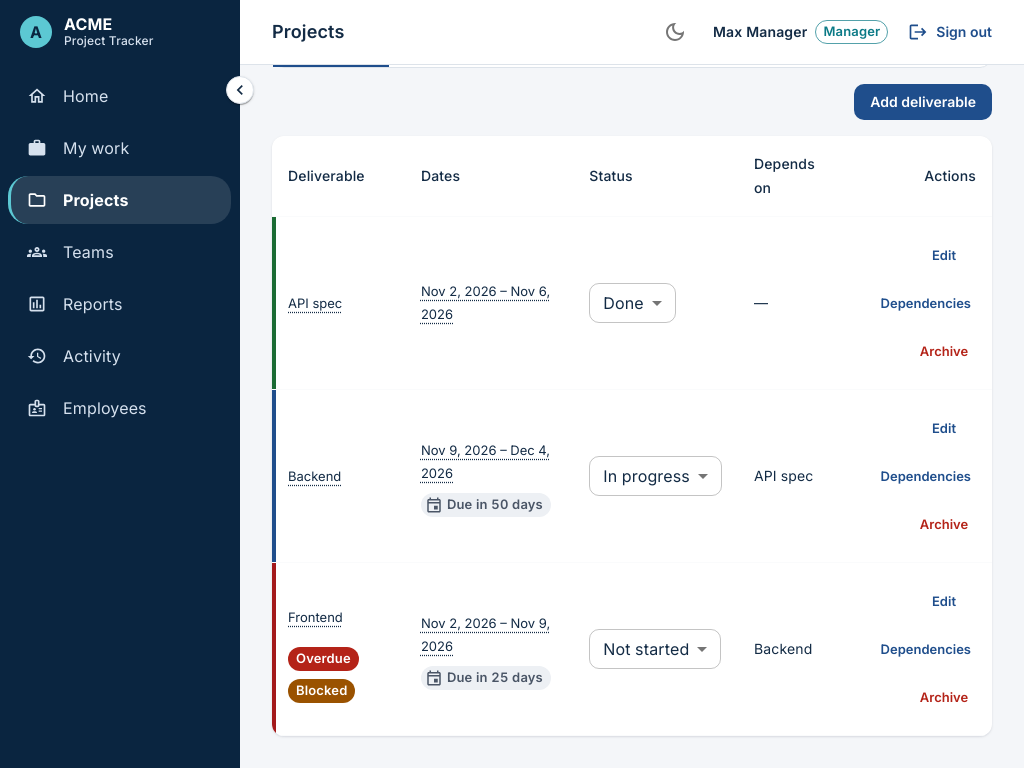
Scenario: Project detail: deliverables › finishing a deliverable saves the status and unblocks its dependents
(page scrolled)
Click the dropdown named "Status of Backend" at [647, 476], box [603,466,690,486]
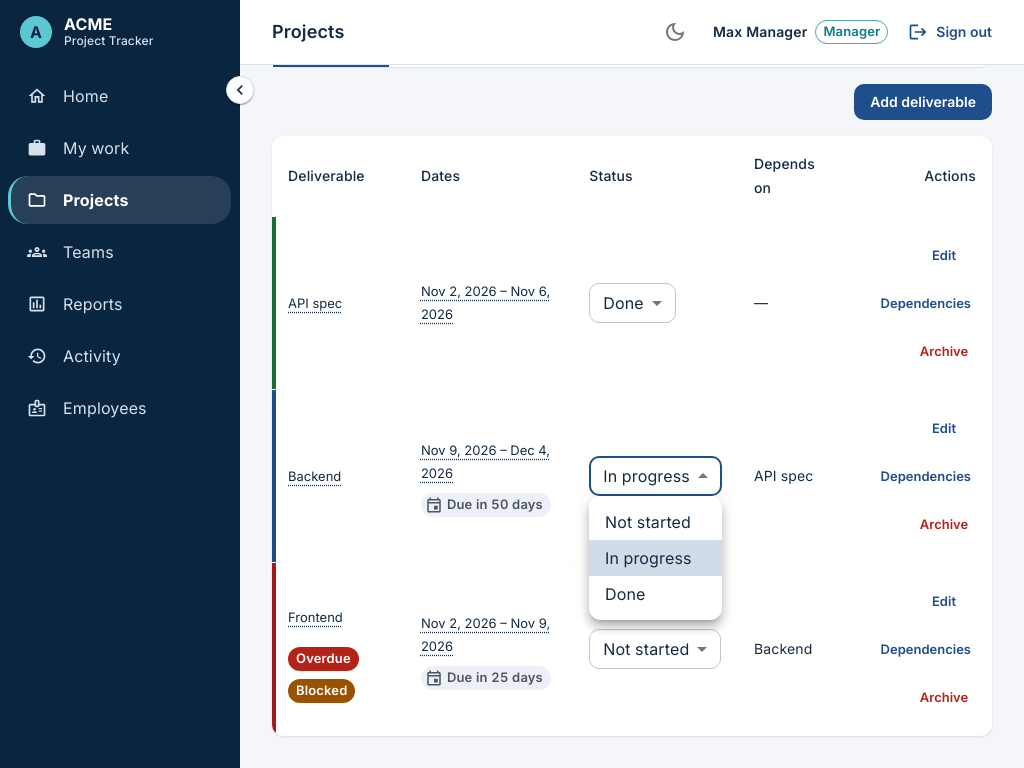
Click the option "Done" at [625, 594], box [605,584,646,604]
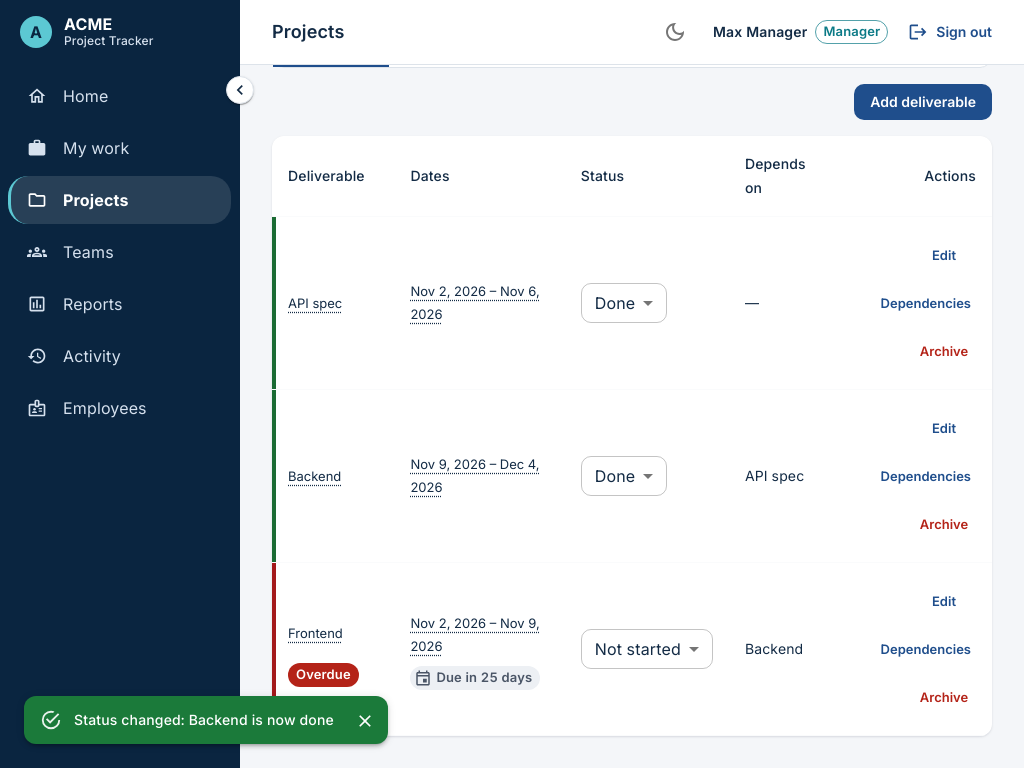
Check: the text "Status changed: Backend is now done" is shown, box [74,711,334,728]
Check: the text "Blocked" is gone
